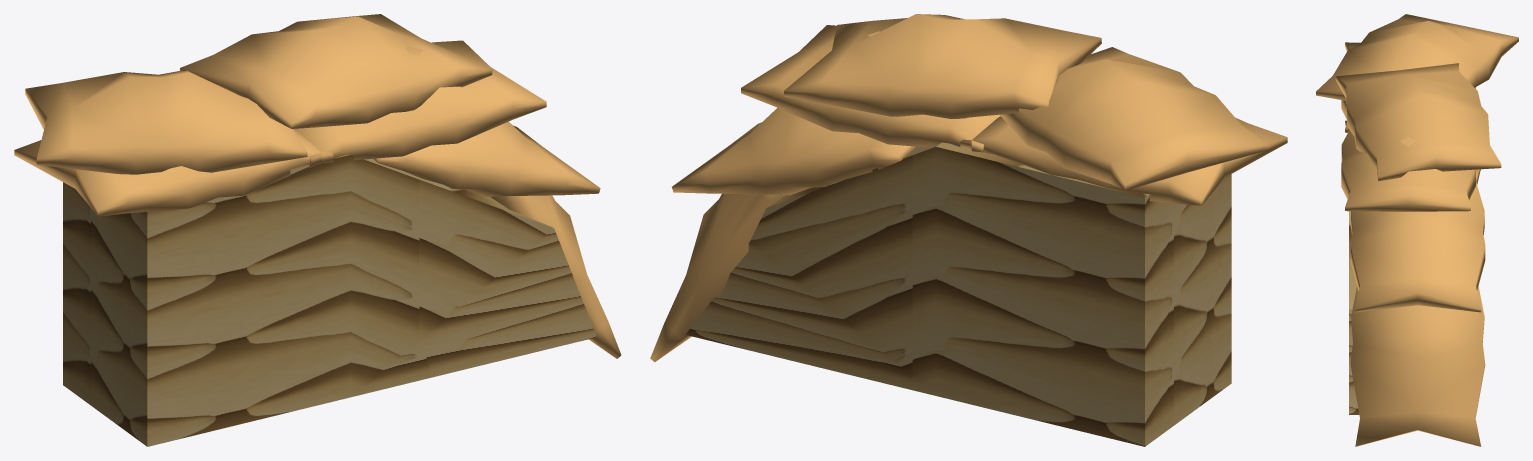
The model's file is Sandbag_End_1.fbx.
The picture shows the model from 3 angles, left to right: view 1: azimuth 30°, elevation 25°; view 2: azimuth 150°, elevation 25°; view 3: azimuth 270°, elevation 25°; orthographic projection. The views are drawn at different scales.
Parts seen in each view (by area): view 1: Sandbag_End_1; view 2: Sandbag_End_1; view 3: Sandbag_End_1.
Part boxes in pixels (x1,y1,x2,y2): Sandbag_End_1: [14, 14, 621, 446]; Sandbag_End_1: [650, 14, 1287, 446]; Sandbag_End_1: [1316, 14, 1518, 446].
Size of the model in its own units: 0.0271 by 0.0172 by 0.0115.
